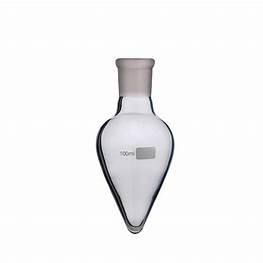Pear shaped flask: (92, 38, 174, 231)
